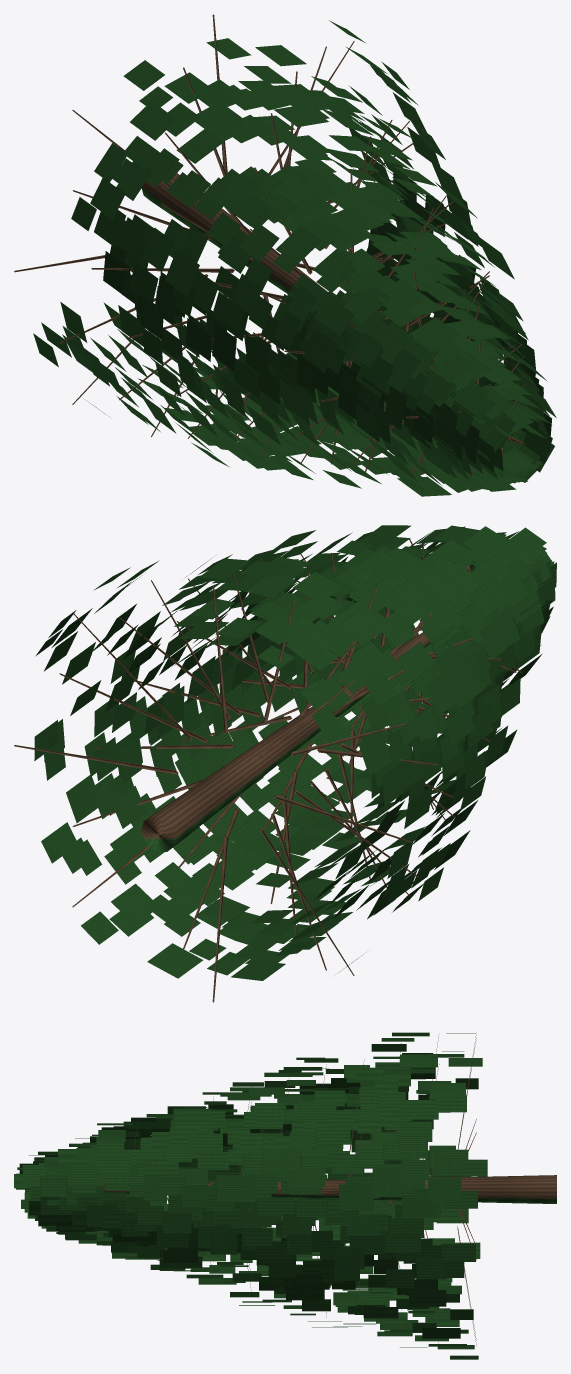
File: veg_conifer_pine_01.glb
The picture shows the model from 3 angles, top to bottom: view 1: azimuth 30°, elevation 25°; view 2: azimuth 150°, elevation 25°; view 3: azimuth 270°, elevation 25°; orthographic projection. The views are drawn at different scales.
Parts seen in each view (by area): view 1: veg_conifer_pine_01; view 2: veg_conifer_pine_01; view 3: veg_conifer_pine_01.
Boxes of the visible parts, x1,y1,x2,y2 form: veg_conifer_pine_01: (14, 14, 556, 496); veg_conifer_pine_01: (14, 525, 556, 1002); veg_conifer_pine_01: (14, 1032, 556, 1359).
Size of the model in its own units: 5.9 by 5.9 by 9.5.
1 material, 1 textured.
